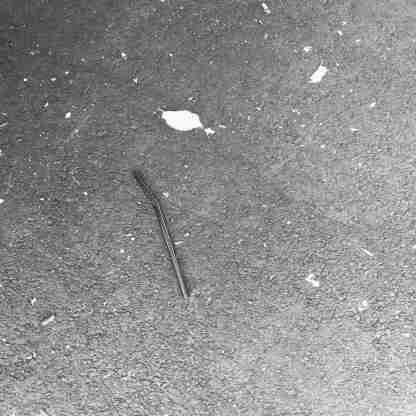plastic: (128, 168, 198, 304)
